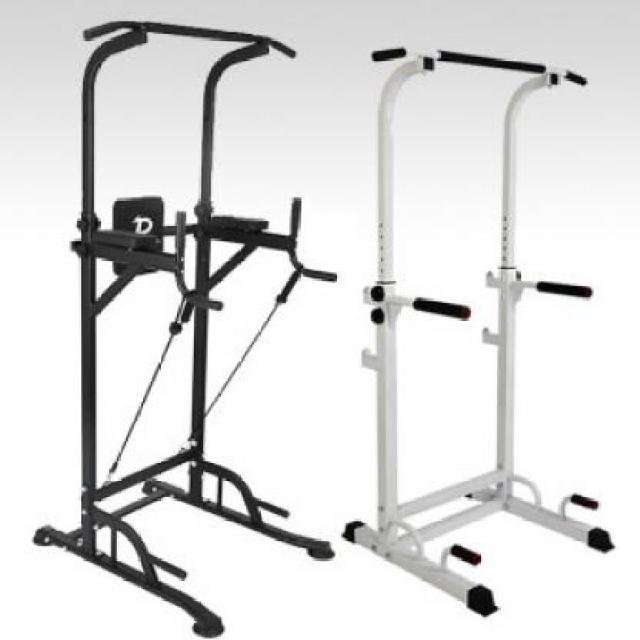chinning dipping: (34, 18, 334, 637), (342, 46, 616, 620)
